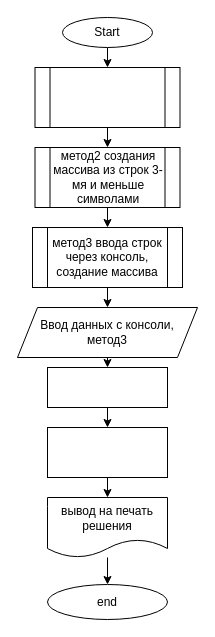
This 215x637 diagram has some shape labels left out. The box of each missing label's shape, as (x1, y1, x2, y2) in pixels:
запуск метода1 с данными ввода: (46, 366, 168, 408)
запуск метода2: (46, 426, 168, 478)
метод1 подсчета количества строк с 3-х и меньше символами: (34, 66, 180, 128)
